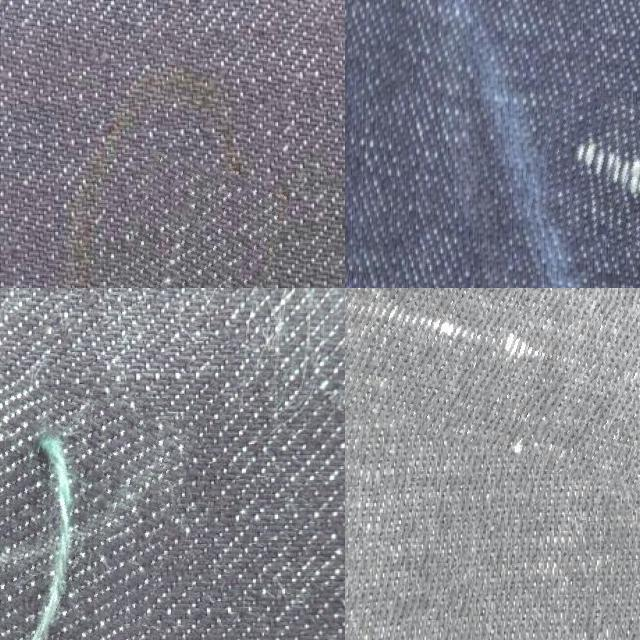Thread_other: (345, 288, 640, 500), (0, 369, 172, 640), (74, 157, 266, 288), (531, 91, 640, 247)
